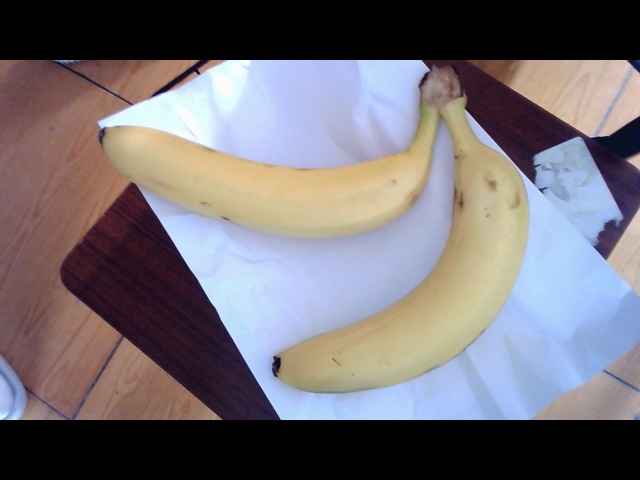banana: (114, 106, 541, 397)
